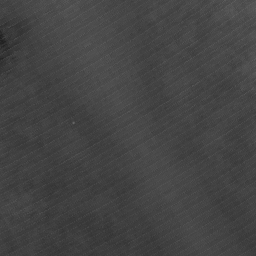Target: (70, 119, 77, 127)
